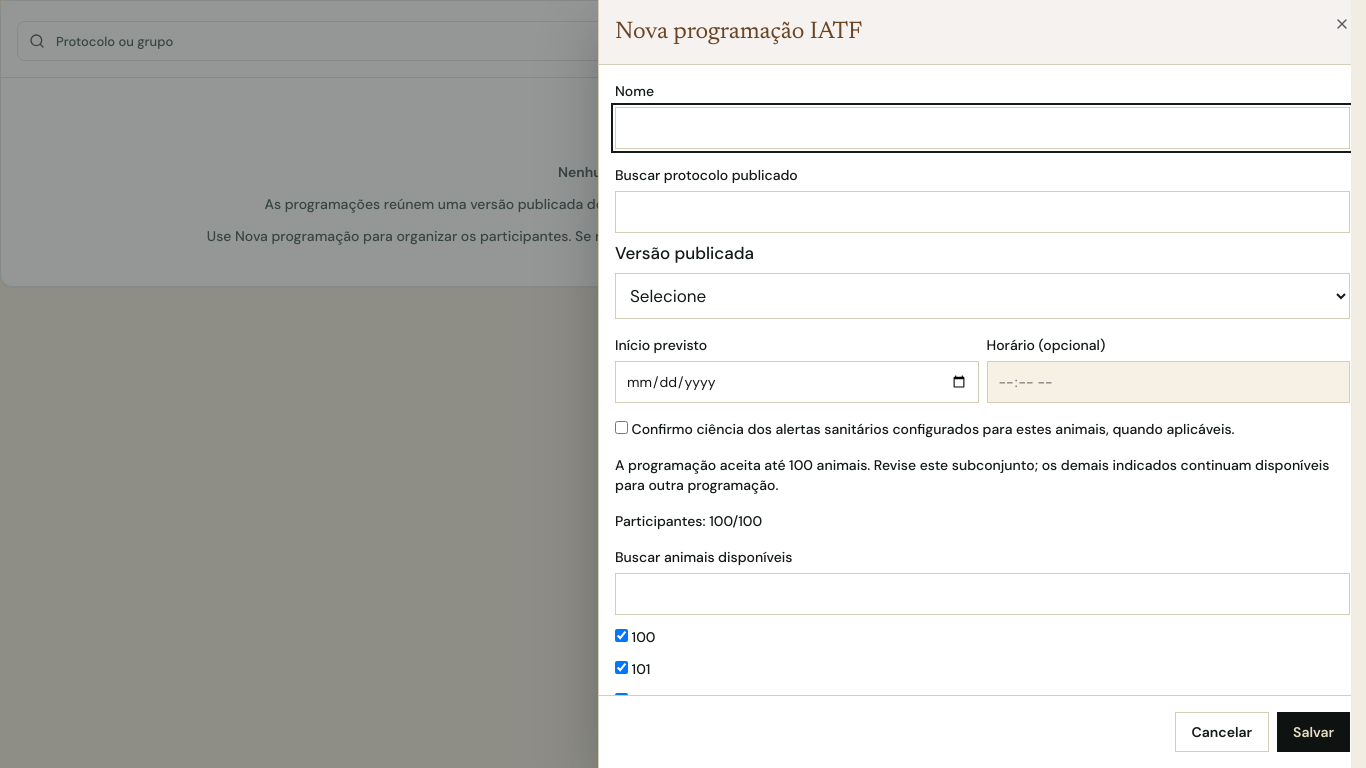
it: limita a primeira programação a 100 e mantém todos os indicados disponíveis
The image size is (1366, 768).
Check: the dialog "Nova programação IATF" is shown, box [598,0,1365,767]
Check: the text "Participantes: 100/100" is shown, box [615,512,762,530]
Step 1. Type "200" into the search field labelled "Buscar animais disponíveis" → (982, 594), box [615,573,1350,615]
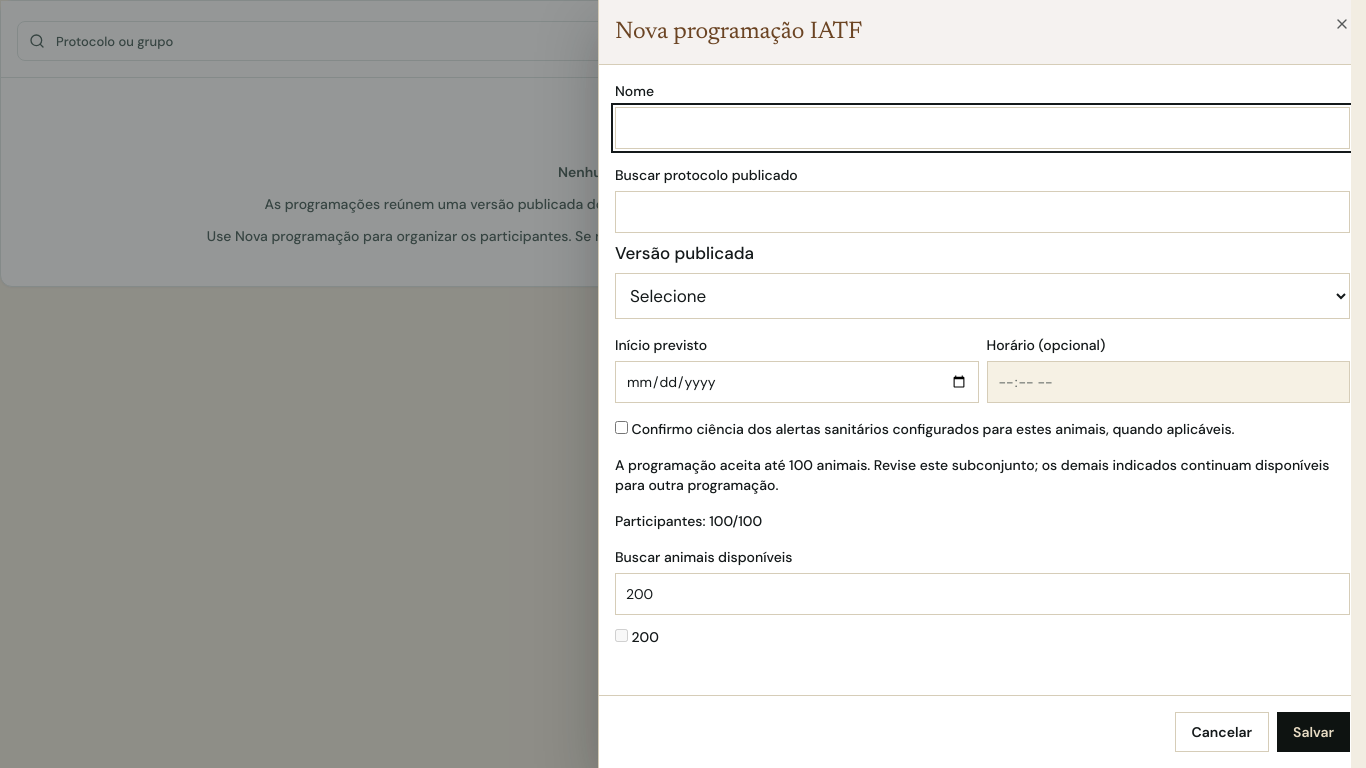
Check: the text "os demais indicados continuam disponíveis" is shown, box [615,456,1329,494]
Check: the checkbox labelled "200" is not checked, box [615,629,628,642]
